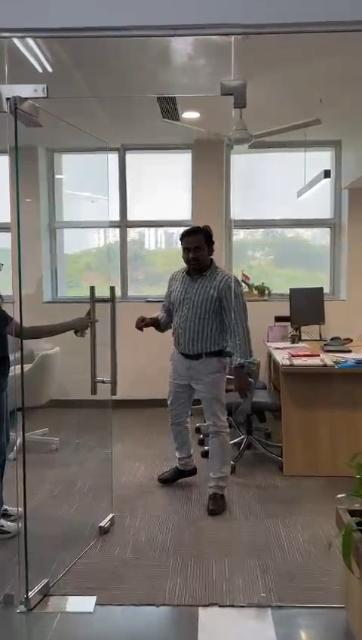floor: (55, 544, 341, 640)
moving-obj: (135, 223, 265, 519)
object: (12, 346, 74, 462), (276, 282, 334, 346)
wall: (9, 150, 51, 310), (342, 132, 362, 328), (195, 147, 225, 221)
